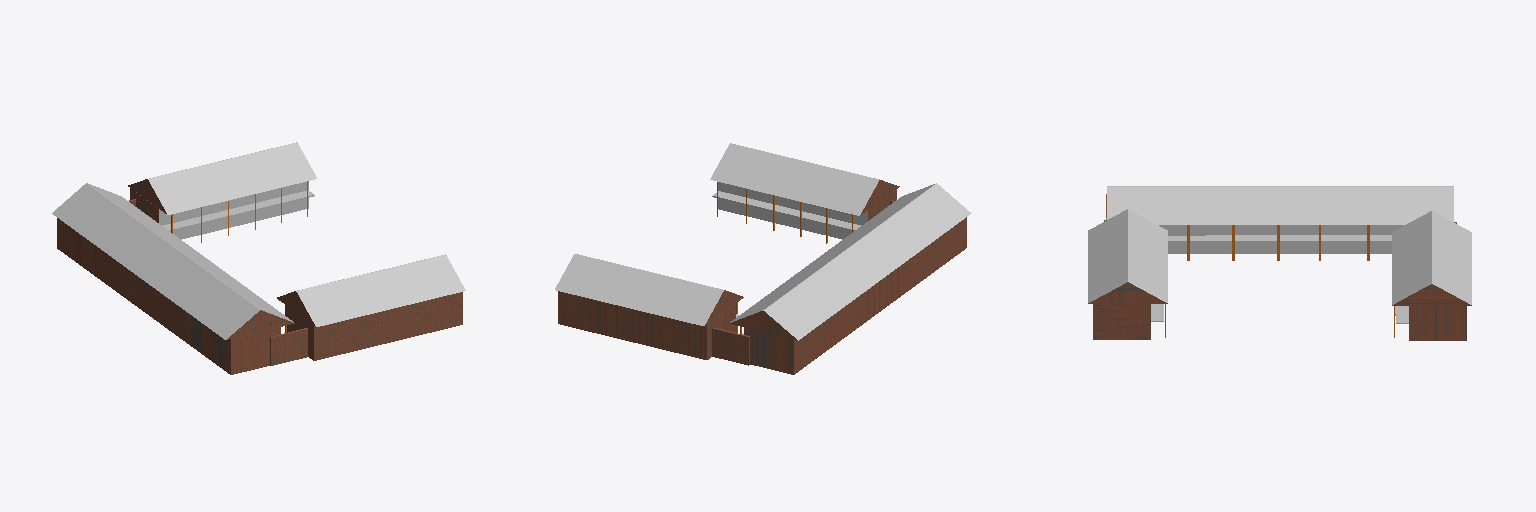
The picture shows the model from 3 angles: view 1: azimuth 30°, elevation 25°; view 2: azimuth 150°, elevation 25°; view 3: azimuth 270°, elevation 25°; orthographic projection.
Parts seen in each view (by area): view 1: Cube.009_Cube.010, Cube.017_Cube.018, Cube.008_Cube.009, Cube.018_Cube.019, Cube_Cube.001, Cube.026_Cube.027, Cube.028_Cube, Cube.025_Cube.026; view 2: Cube.009_Cube.010, Cube.017_Cube.018, Cube.008_Cube.009, Cube.018_Cube.019, Cube.026_Cube.027, Cube_Cube.001, Cube.028_Cube, Cube.001_Cube.002; view 3: Cube.009_Cube.010, Cube.018_Cube.019, Cube.008_Cube.009, Cube.017_Cube.018, Cube_Cube.001, Cube.026_Cube.027, Cube.016_Cube.017.
Part boxes in pixels (x1,y1,x2,y2): Cube.009_Cube.010: (52,183,294,339); Cube.017_Cube.018: (57,218,280,374); Cube.008_Cube.009: (277,254,465,326); Cube.018_Cube.019: (128,142,316,214); Cube_Cube.001: (285,292,462,360); Cube.026_Cube.027: (130,181,308,239); Cube.028_Cube: (129,199,307,365); Cube.025_Cube.026: (163,190,314,231); Cube.009_Cube.010: (729,183,971,340); Cube.017_Cube.018: (744,217,966,374); Cube.008_Cube.009: (710,143,899,215); Cube.018_Cube.019: (555,254,743,325); Cube.026_Cube.027: (558,291,735,359); Cube_Cube.001: (718,182,896,239); Cube.028_Cube: (712,200,894,365); Cube.001_Cube.002: (712,191,860,231); Cube.009_Cube.010: (1107,186,1453,224); Cube.018_Cube.019: (1392,211,1471,305); Cube.008_Cube.009: (1088,209,1167,303); Cube.017_Cube.018: (1106,194,1403,253); Cube_Cube.001: (1093,304,1150,339); Cube.026_Cube.027: (1409,306,1466,340); Cube.016_Cube.017: (1168,235,1391,242).
Bounding box in the file's own units: 41.59 × 9.95 × 59.
6 materials, 2 textured.